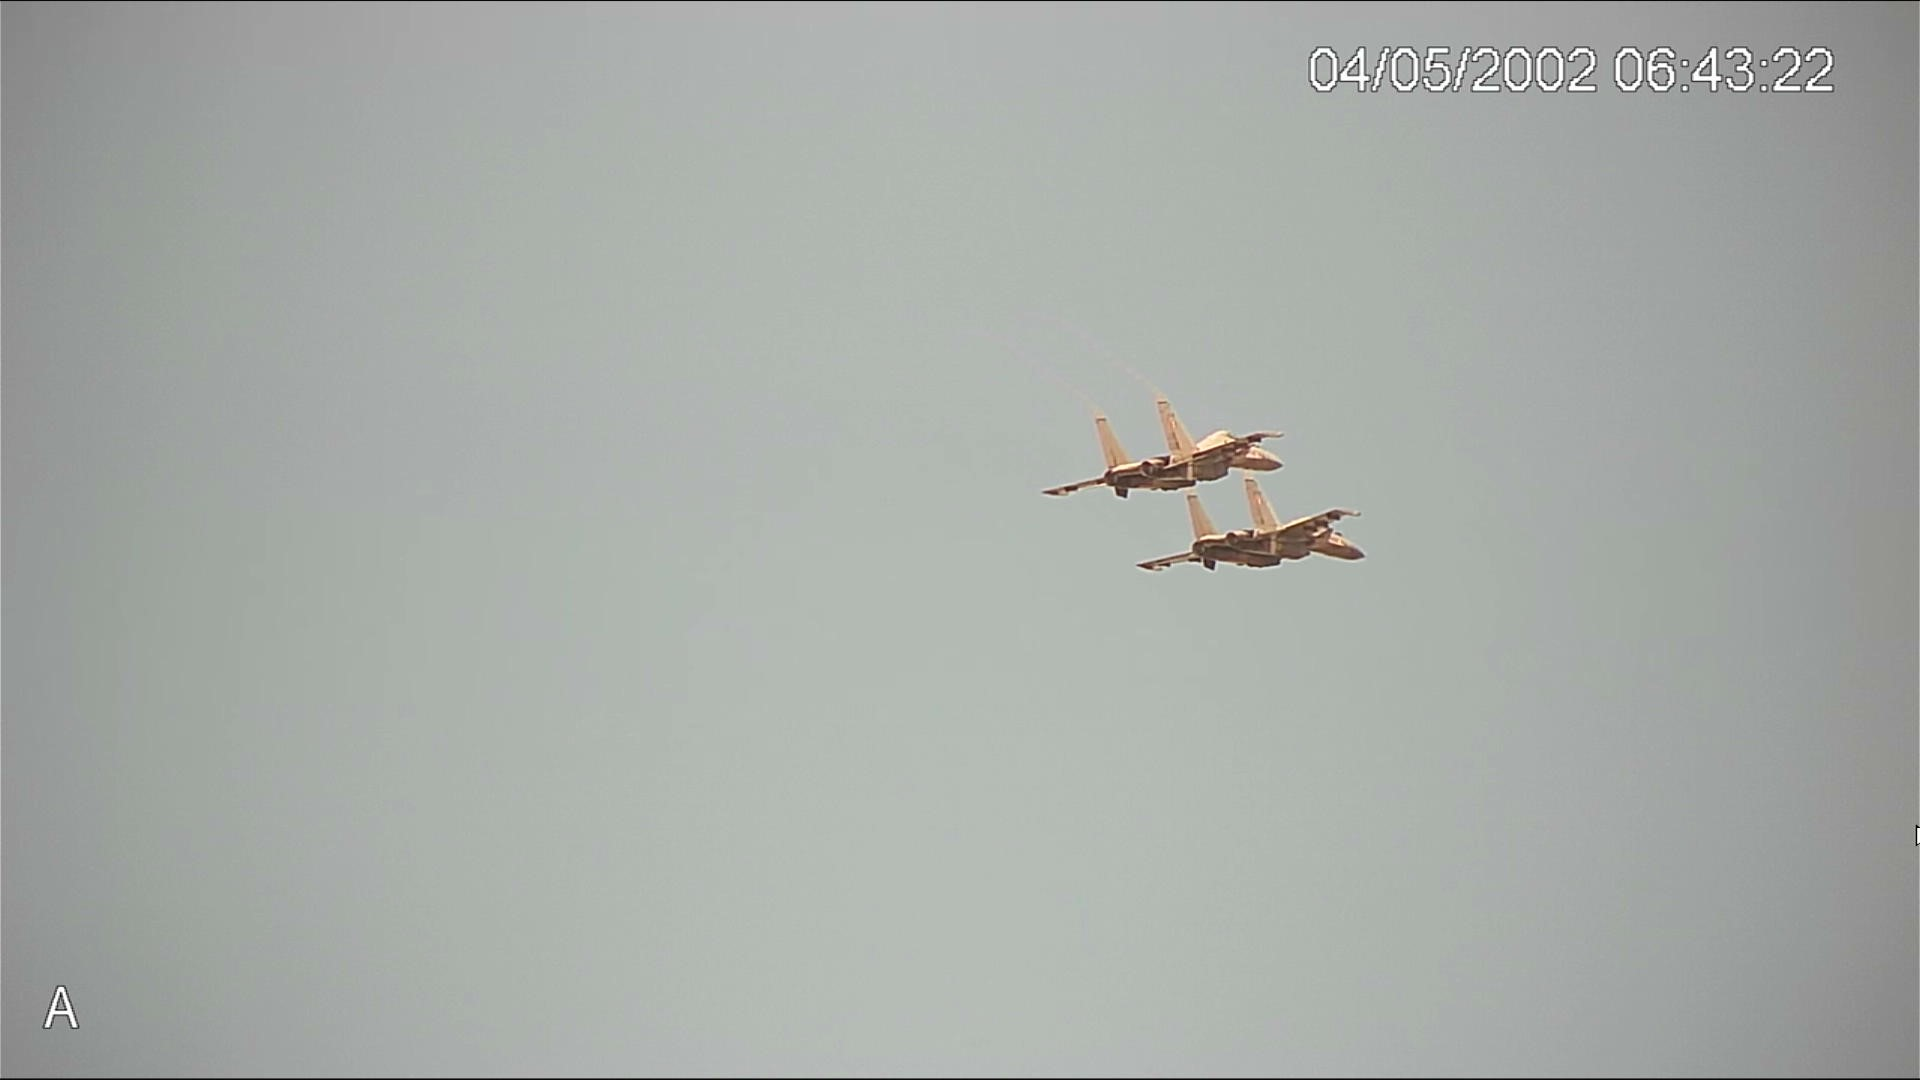SU_30: (1035, 393, 1284, 493), (1106, 491, 1365, 574)
